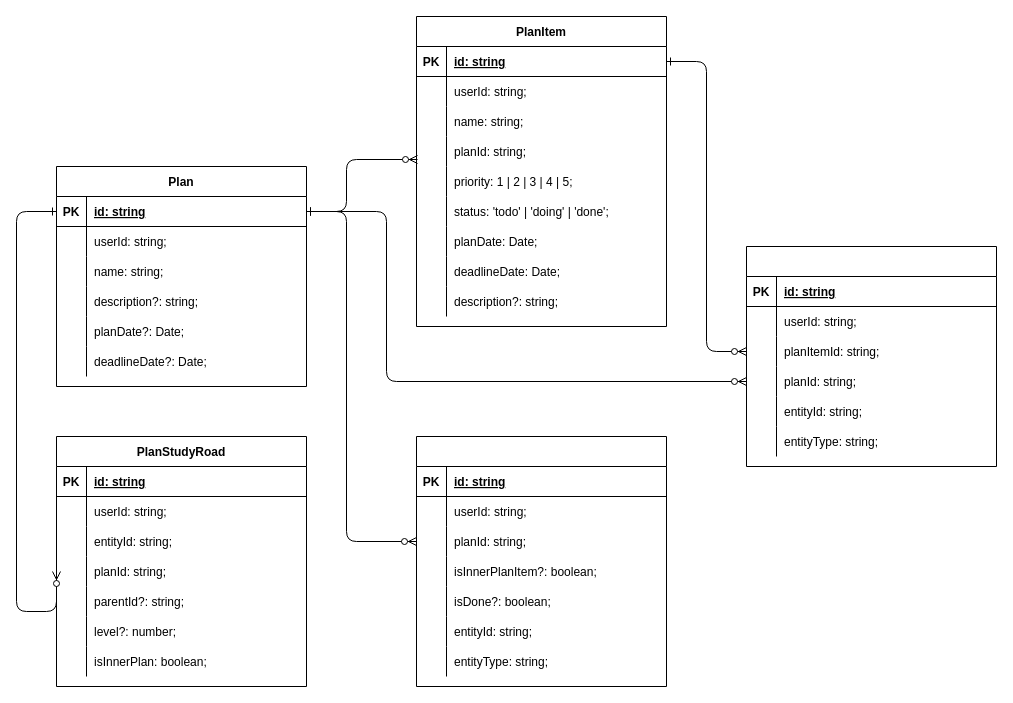
Some shapes in this 1013 by 703 pixel diagram are drawn without their labels. The shapes that lost their labels are listed below. From the top down, each one's box as (x1, y1, x2, y2) in pixels, then its label:
(746, 246, 996, 466): PlanItemEntity
(416, 436, 666, 686): PlanEntity
